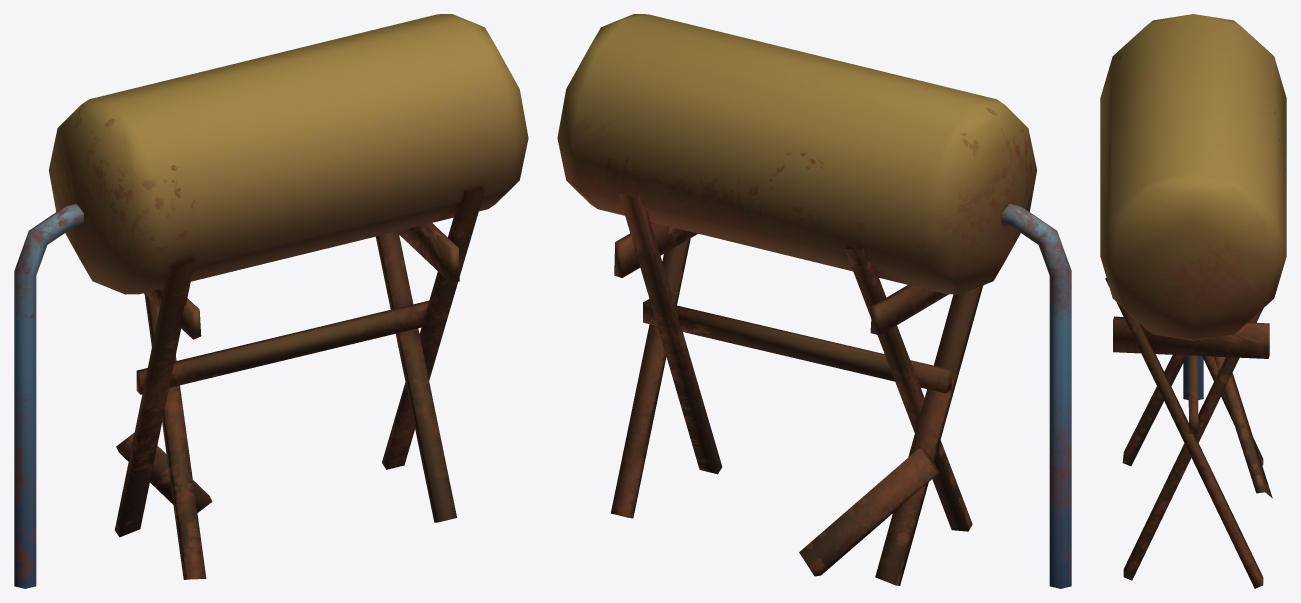
File: Tank.glb
The picture shows the model from 3 angles, left to right: view 1: azimuth 30°, elevation 25°; view 2: azimuth 150°, elevation 25°; view 3: azimuth 270°, elevation 25°; orthographic projection. The views are drawn at different scales.
Visible parts, largest first — view 1: Tank1; view 2: Tank1; view 3: Tank1.
Part boxes in pixels (bbox=[...]): Tank1: bbox=[14, 14, 528, 588]; Tank1: bbox=[557, 14, 1071, 588]; Tank1: bbox=[1100, 14, 1286, 588].
Bounding box in the file's own units: 3.38 × 3.12 × 1.21.
Materials: 1 (1 with a texture image).
